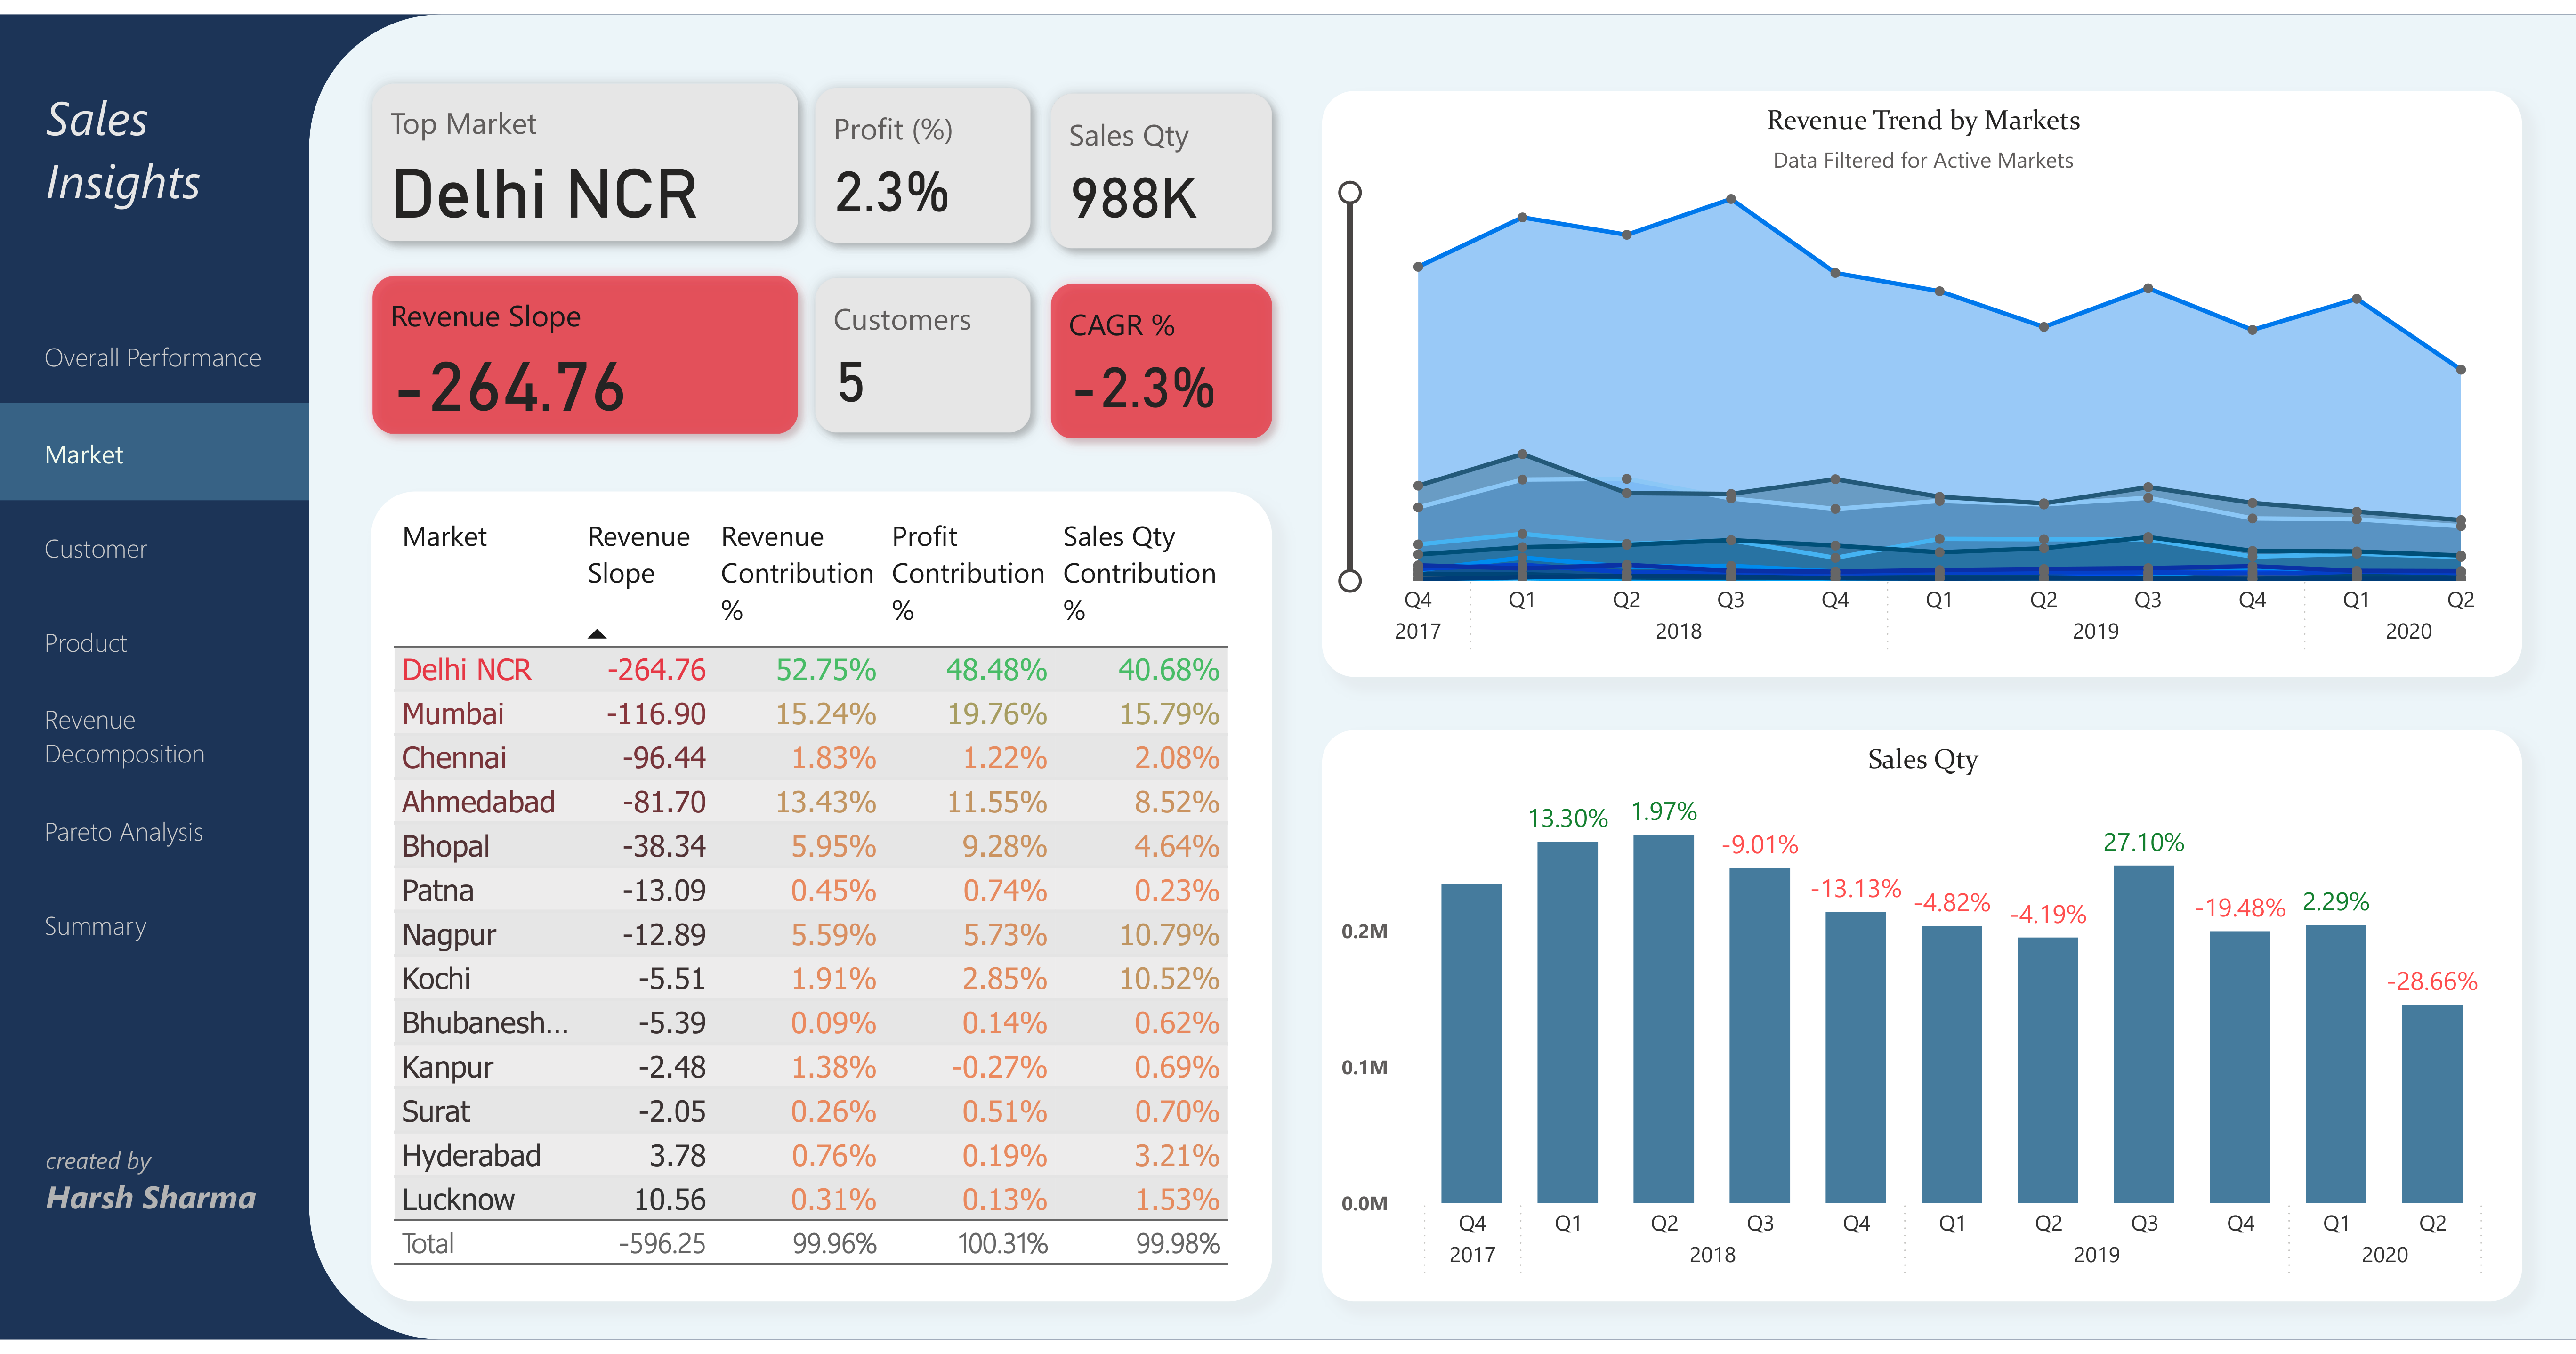

Layout of this report page (visuals, bound fields, positions):
{"tool":"powerbi","page":{"name":"Market","canvas":[1750,900],"ordinal":1},"visuals":[{"type":"shape","title":"BG 01","box":[210,0,1540,900],"z":0},{"type":"cardVisual","title":"Sales, CAGR","fields":{"Data":["Top Market.Sales Qty (Top Market – from Card)","Top Market.Revenue CAGR % (Quarterly – Top Market)"]},"box":[700.2,41.2,174.8,258],"z":0,"group":"g1"},{"type":"pageNavigator","box":[0,196.7,210,456.7],"z":0,"group":"g2"},{"type":"textbox","box":[26.7,41.7,138.3,116.7],"z":1000,"group":"g2"},{"type":"tableEx","title":"Revenue Trend","fields":{"Values":["sales markets.markets_name","Base Measure.Revenue Slope","Base Measure.Revenue Contribution %","Base Measure.Profit Margin Contribution %","Base Measure.Total Sales Qty Contribution %"]},"box":[251.7,323.3,611.7,550],"z":1000},{"type":"cardVisual","title":"Profit customer","fields":{"Data":["Top Market.Profit % (Top Market – from Card)","Top Market.Customers (Distinct – Top Market)"]},"box":[541,37.9,170.5,259.1],"z":2000,"group":"g1"},{"type":"lineChart","title":"Revenue Trend by Markets","fields":{"Category":["sales date.date Hierarchy.year","sales date.date Hierarchy.Quarter","sales date.date Hierarchy.month_name","sales date.date Hierarchy.Day"],"Y":["Base Measure.Revenue"],"Series":["sales markets.markets_name"]},"box":[898.3,51.7,815,398.3],"z":2000},{"type":"textbox","box":[26.7,761.7,183.3,116.7],"z":2000,"group":"g2"},{"type":"cardVisual","title":"Market, Slope","fields":{"Data":["Base Measure.Card – Top Market (Rev/Profit/Qty Shares)","Top Market.Revenue Slope (Top Market, quarter grid)"]},"box":[235,30,323.9,273.3],"z":2500,"group":"g1"},{"type":"columnChart","title":"Sales Qty","fields":{"Category":["sales date.date Hierarchy.year","sales date.date Hierarchy.Quarter","sales date.date Hierarchy.month_name","sales date.date Hierarchy.Day"],"Y":["Base Measure.Total Sales Qty"]},"box":[898.3,485,815,388.3],"z":3000},{"type":"group","id":"g1","title":"Cards","box":[235,30,640,273.3],"z":4000},{"type":"group","id":"g2","title":"Side Menu","box":[0,41.7,210,836.7],"z":5000}]}

Visuals, with their boxes in screenshot pixels (x1, y1, x2, y2), scaled from the page's 1750x900 canvas onto the 2576x1354 screenshot:
"BG 01" shape: {"left": 309, "top": 0, "right": 2576, "bottom": 1354}
"Sales, CAGR" cardVisual: {"left": 1031, "top": 62, "right": 1288, "bottom": 450}
pageNavigator: {"left": 0, "top": 296, "right": 309, "bottom": 983}
textbox: {"left": 39, "top": 63, "right": 243, "bottom": 238}
"Revenue Trend" tableEx: {"left": 371, "top": 486, "right": 1271, "bottom": 1314}
"Profit customer" cardVisual: {"left": 796, "top": 57, "right": 1047, "bottom": 447}
"Revenue Trend by Markets" lineChart: {"left": 1322, "top": 78, "right": 2522, "bottom": 677}
textbox: {"left": 39, "top": 1146, "right": 309, "bottom": 1322}
"Market, Slope" cardVisual: {"left": 346, "top": 45, "right": 823, "bottom": 456}
"Sales Qty" columnChart: {"left": 1322, "top": 730, "right": 2522, "bottom": 1314}
"Cards" group: {"left": 346, "top": 45, "right": 1288, "bottom": 456}
"Side Menu" group: {"left": 0, "top": 63, "right": 309, "bottom": 1322}
